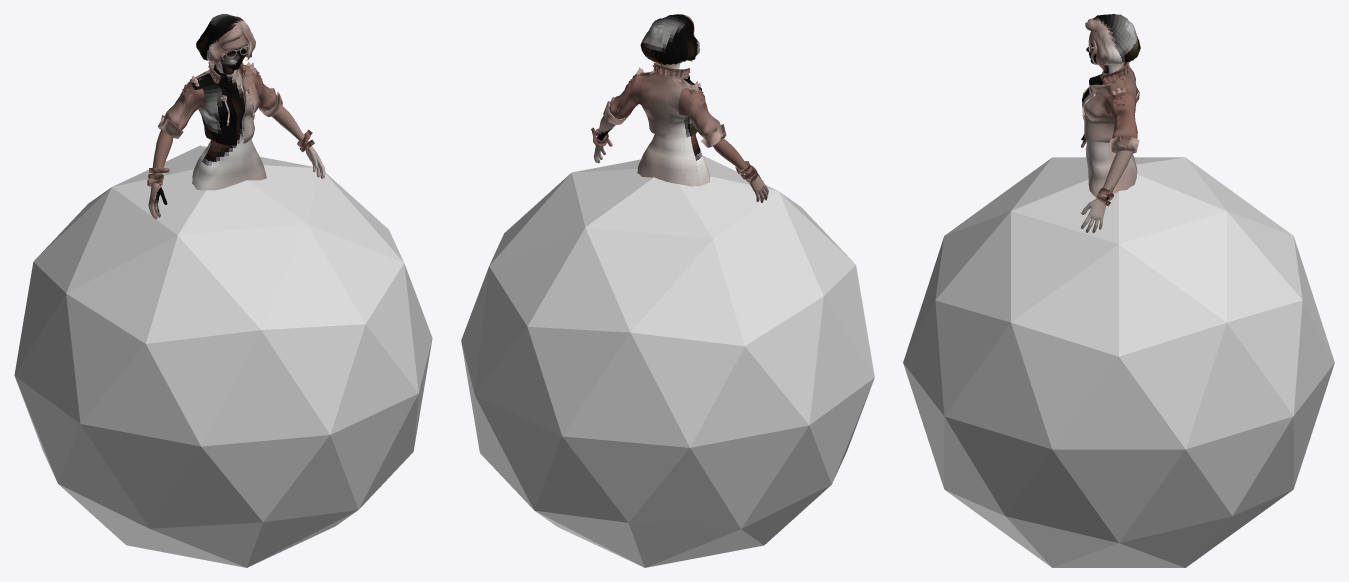
Rendered from female2.fbx.
3 views of the same model, side by side, from view 1: azimuth 30°, elevation 25°; view 2: azimuth 150°, elevation 25°; view 3: azimuth 270°, elevation 25° (orthographic). The views are drawn at different scales.
Parts seen in each view (by area): view 1: Icosphere, Wolf3D_Outfit_Top, Wolf3D_Hair, Wolf3D_Body, Wolf3D_Head; view 2: Icosphere, Wolf3D_Outfit_Top, Wolf3D_Hair, Wolf3D_Body; view 3: Icosphere, Wolf3D_Outfit_Top, Wolf3D_Hair, Wolf3D_Body.
Part boxes in pixels (box(x1,y1,x2,y2)): Icosphere: box(14, 145, 432, 567); Wolf3D_Outfit_Top: box(147, 61, 314, 190); Wolf3D_Hair: box(196, 14, 255, 65); Wolf3D_Body: box(148, 106, 325, 219); Wolf3D_Head: box(216, 34, 246, 74); Icosphere: box(461, 155, 874, 567); Wolf3D_Outfit_Top: box(591, 62, 757, 186); Wolf3D_Hair: box(640, 14, 699, 64); Wolf3D_Body: box(593, 116, 768, 202); Icosphere: box(903, 157, 1334, 567); Wolf3D_Outfit_Top: box(1082, 62, 1139, 206); Wolf3D_Hair: box(1085, 14, 1140, 68); Wolf3D_Body: box(1081, 134, 1132, 233).
Bounding box in the file's own units: 190 × 277 × 200.
8 materials, 8 textured.
